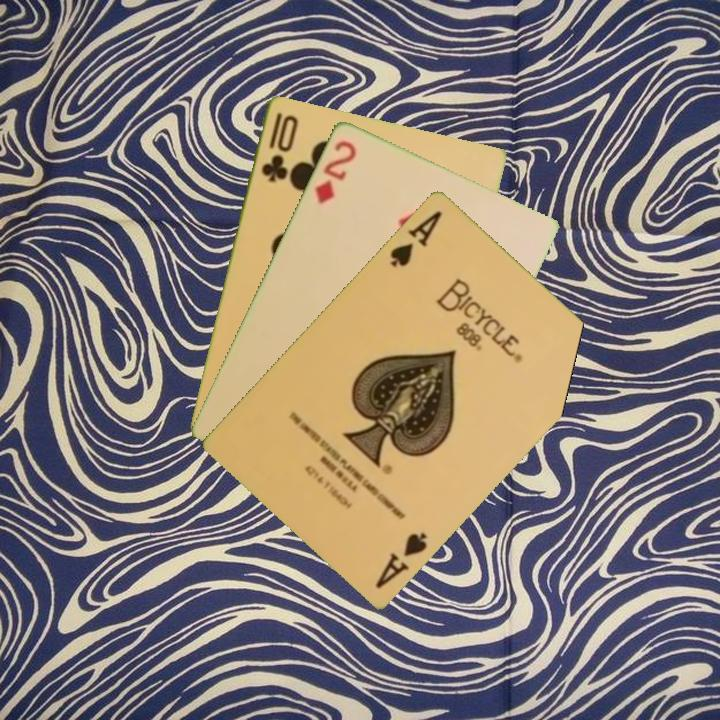10c: (257, 108, 300, 185)
2d: (311, 136, 359, 206)
As: (386, 206, 445, 270), (371, 528, 430, 591)
